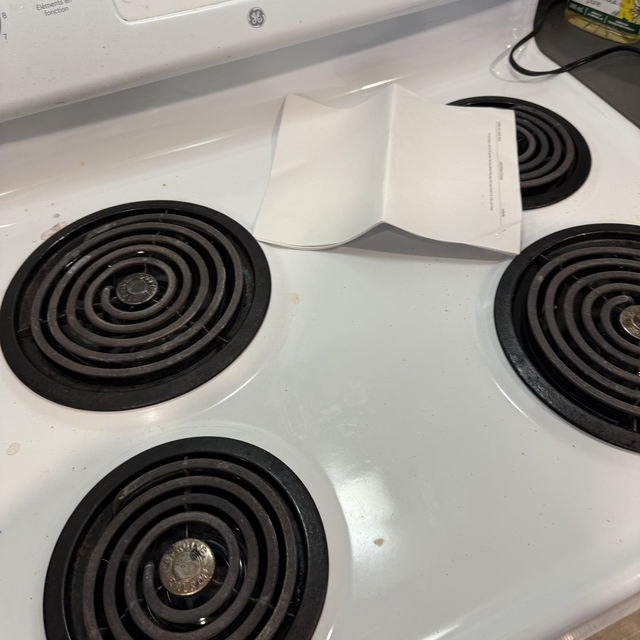Paper: (255, 95, 543, 260)
Stove: (0, 0, 640, 640)
